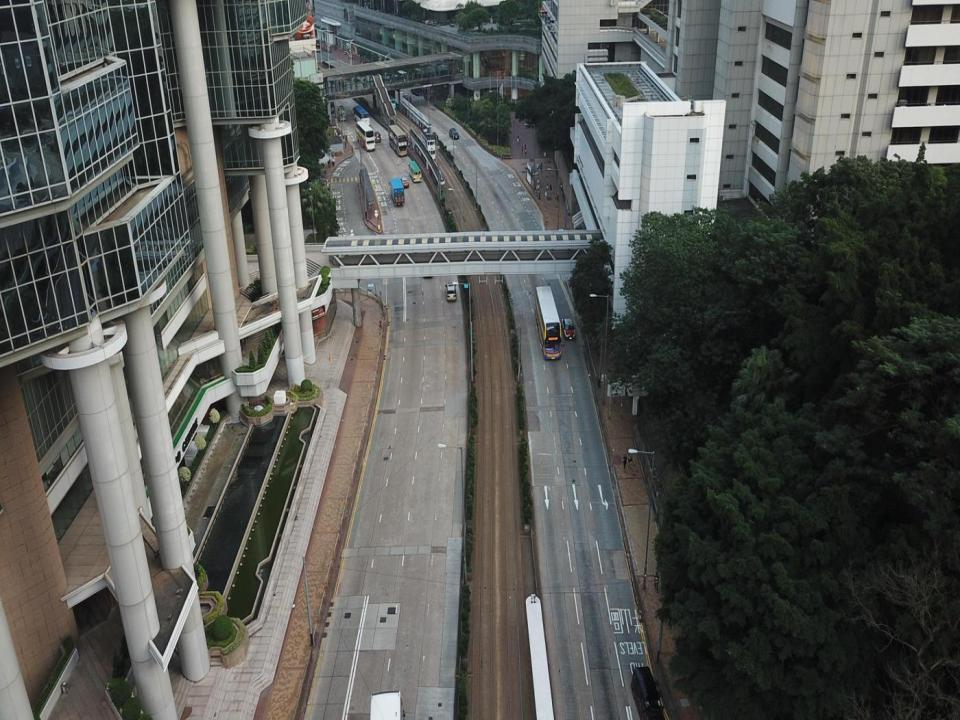bus: (534, 282, 562, 358), (388, 124, 408, 158), (355, 120, 375, 152), (376, 91, 398, 119), (353, 104, 371, 128), (406, 160, 422, 182)
car: (561, 315, 575, 339), (446, 280, 457, 302), (370, 130, 381, 145), (400, 175, 409, 190), (449, 128, 460, 140)
truck: (632, 664, 667, 719)
van: (389, 178, 404, 207), (337, 105, 347, 123)
